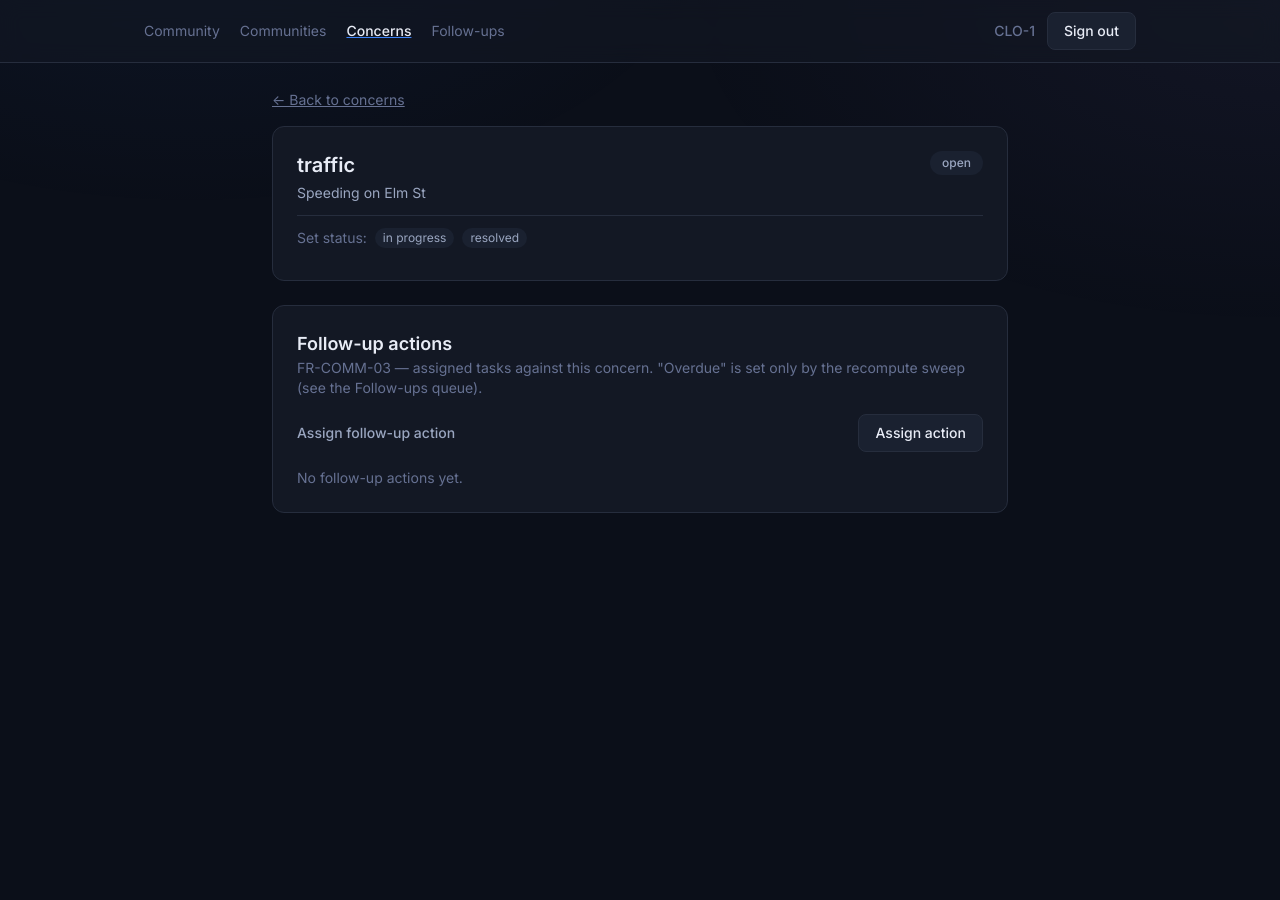
ConcernDetailPage › assigns a follow-up action with description/assigned_to/due_date
This screenshot has width=1280, height=900.
expect the heading "traffic" is shown: met, box 297,153 -> 355,177
Click the button "Assign action" at (921, 433), box 858,414 -> 983,452
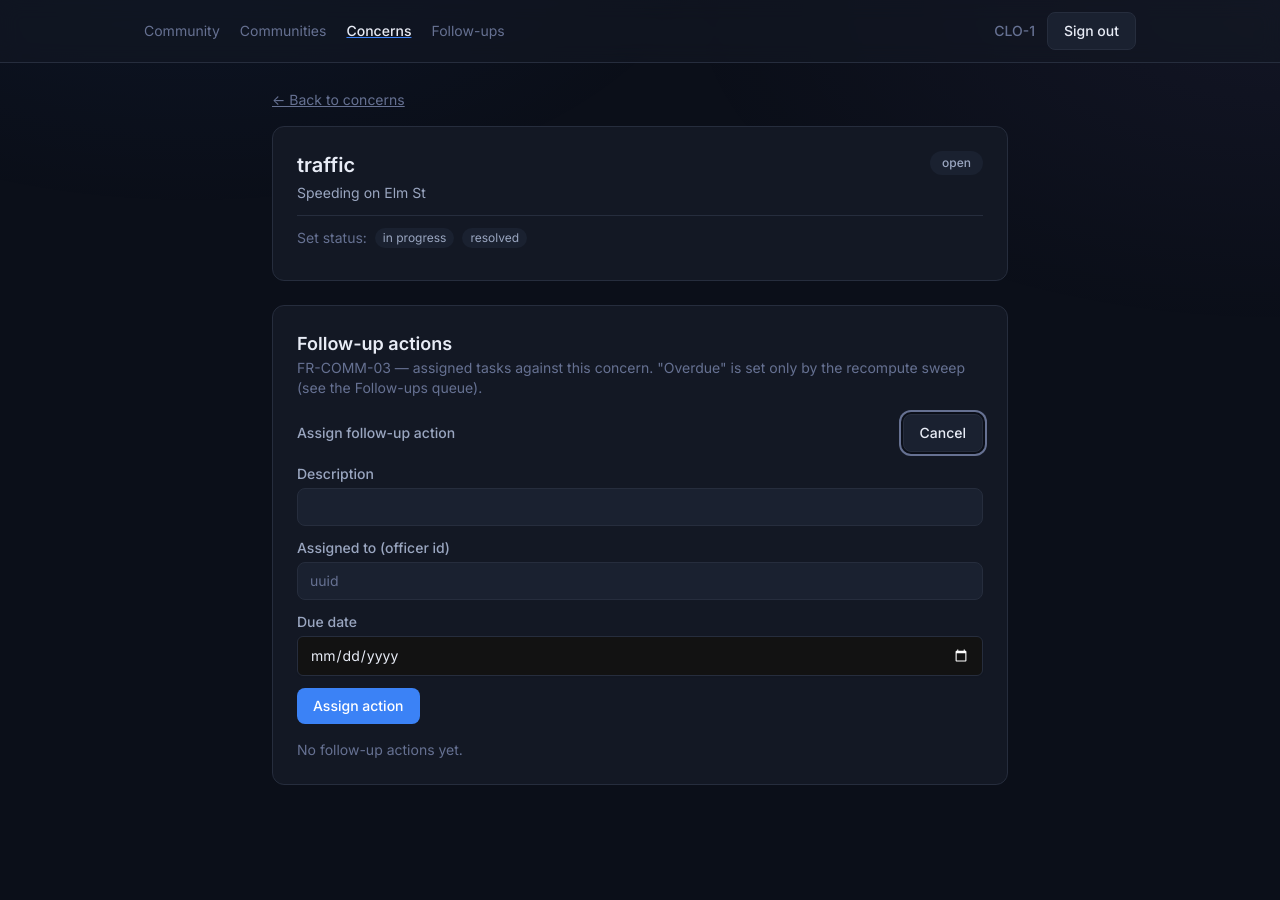
Type "Arrange speed survey" into the field labelled "Description" at (640, 507), box 297,488 -> 983,526
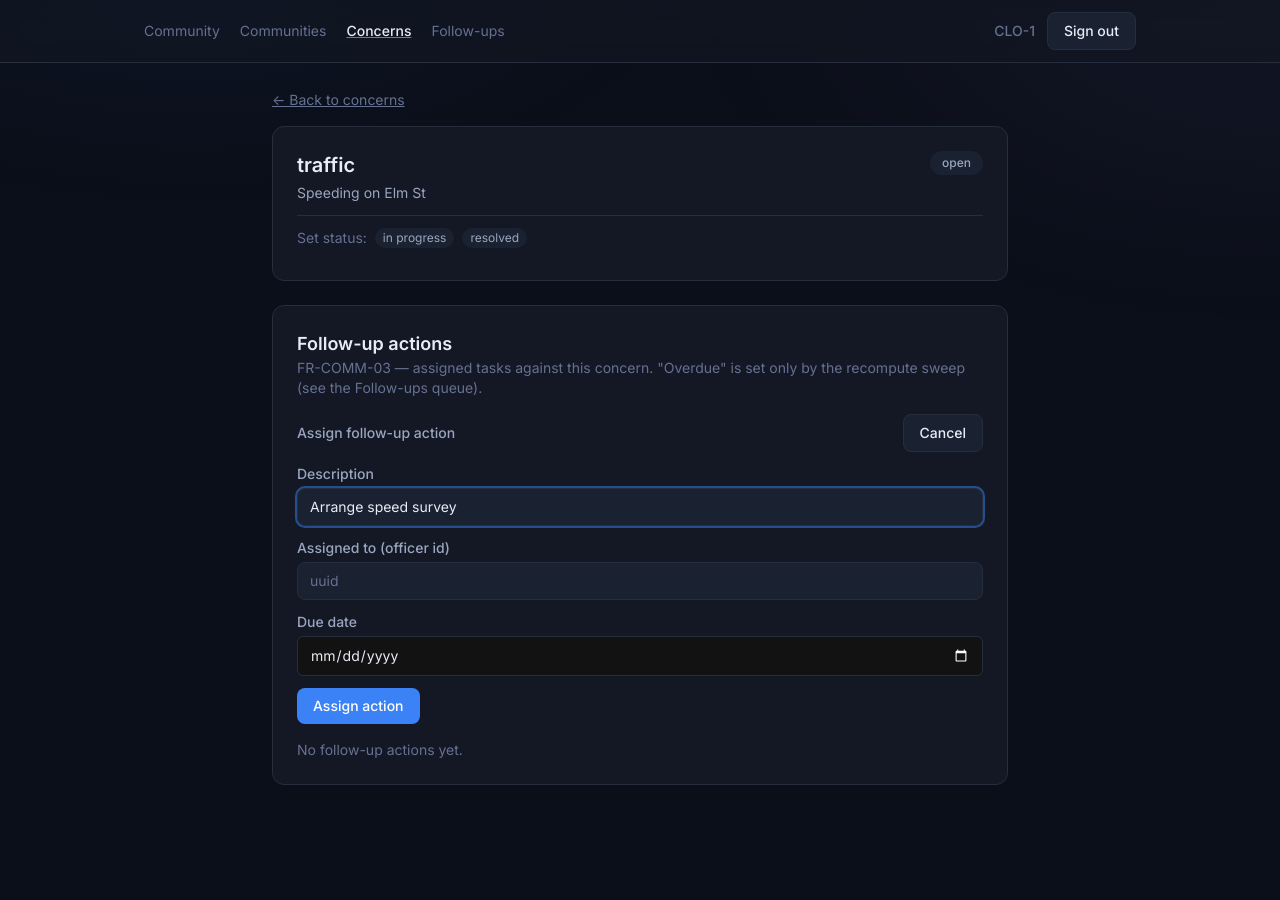
Type "0ffffff0-0000-0000-0000-000000000000" into the field labelled "Assigned to (officer id)" at (640, 581), box 297,562 -> 983,600
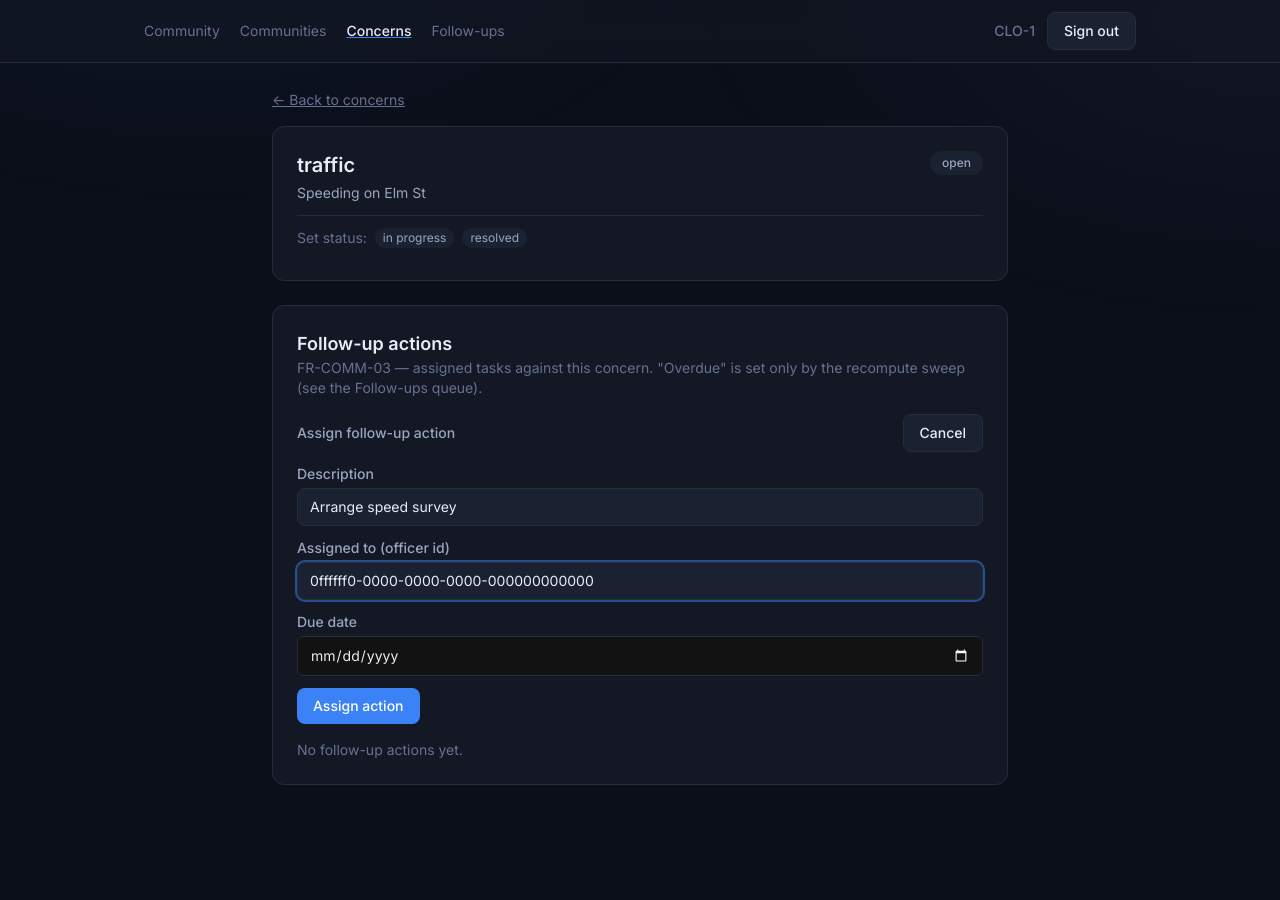
Type "2026-05-01" into the date field labelled "Due date" at (640, 656), box 297,636 -> 983,676
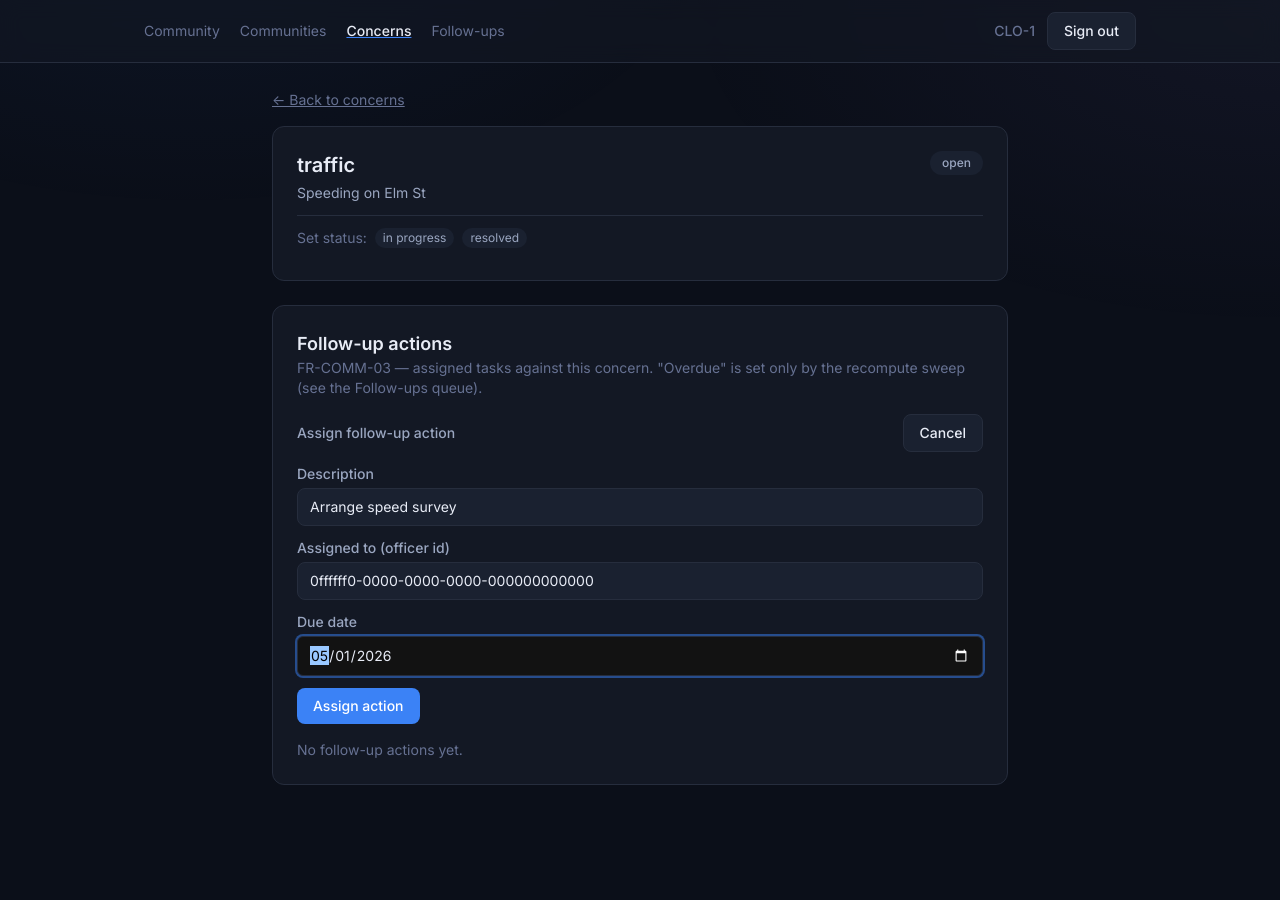
Click the button "Assign action" at (358, 706), box 297,688 -> 420,724
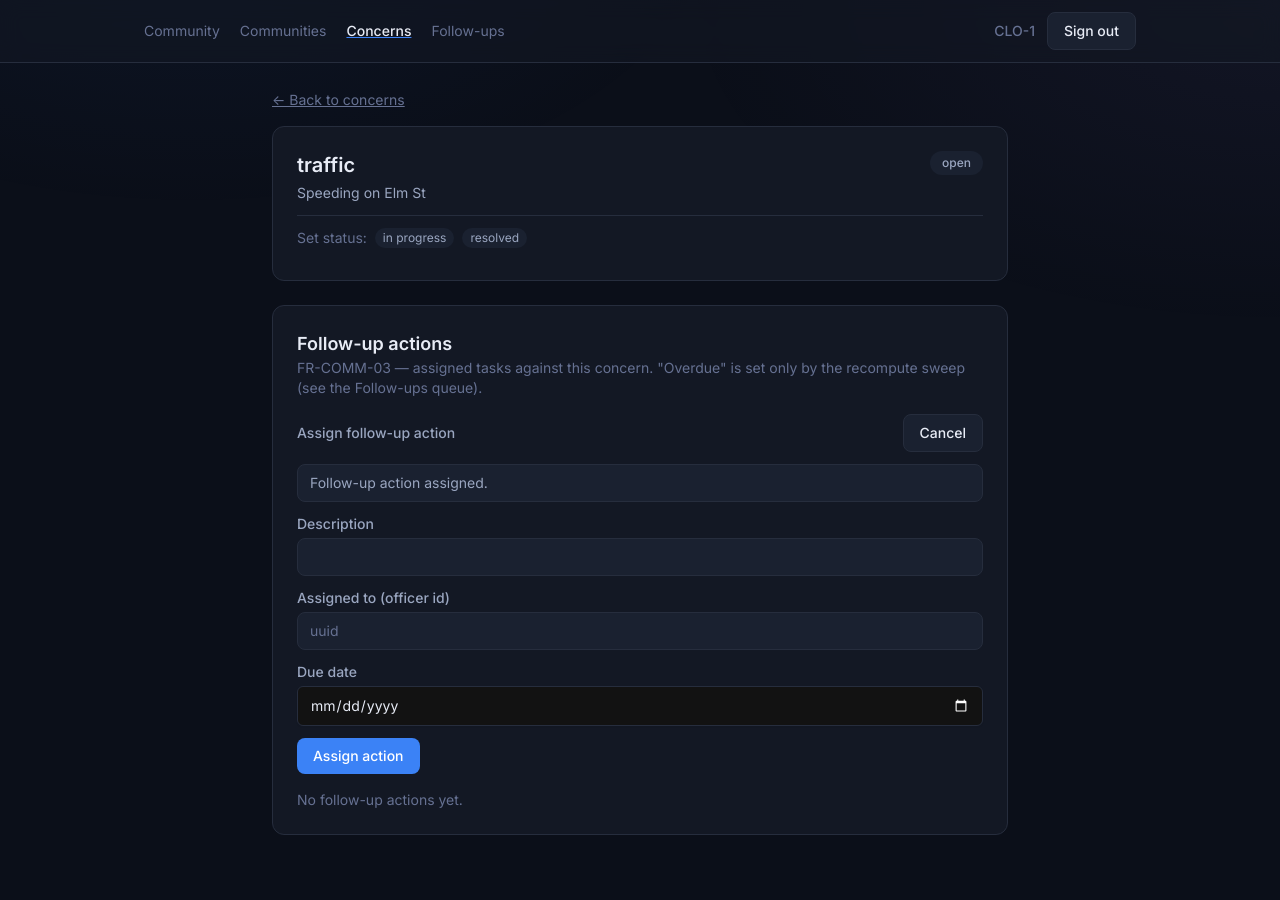
expect the text "Follow-up action assigned." is shown: met, box 297,464 -> 983,502
